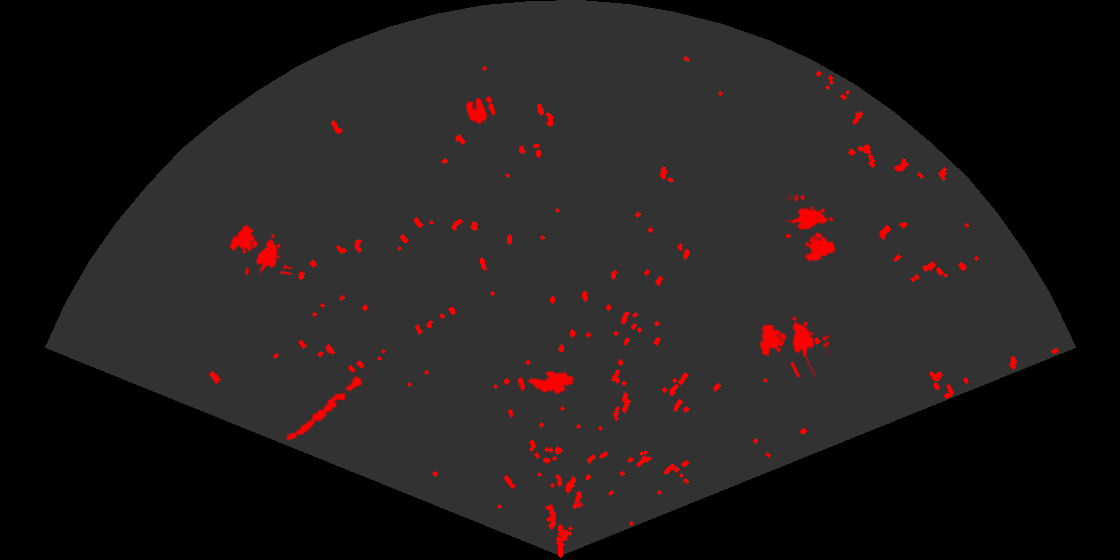AUV: (526, 369, 576, 396)
ball: (464, 94, 497, 126)
cage: (758, 315, 829, 377), (786, 195, 838, 264), (227, 223, 292, 275)
chain: (284, 368, 375, 442)
